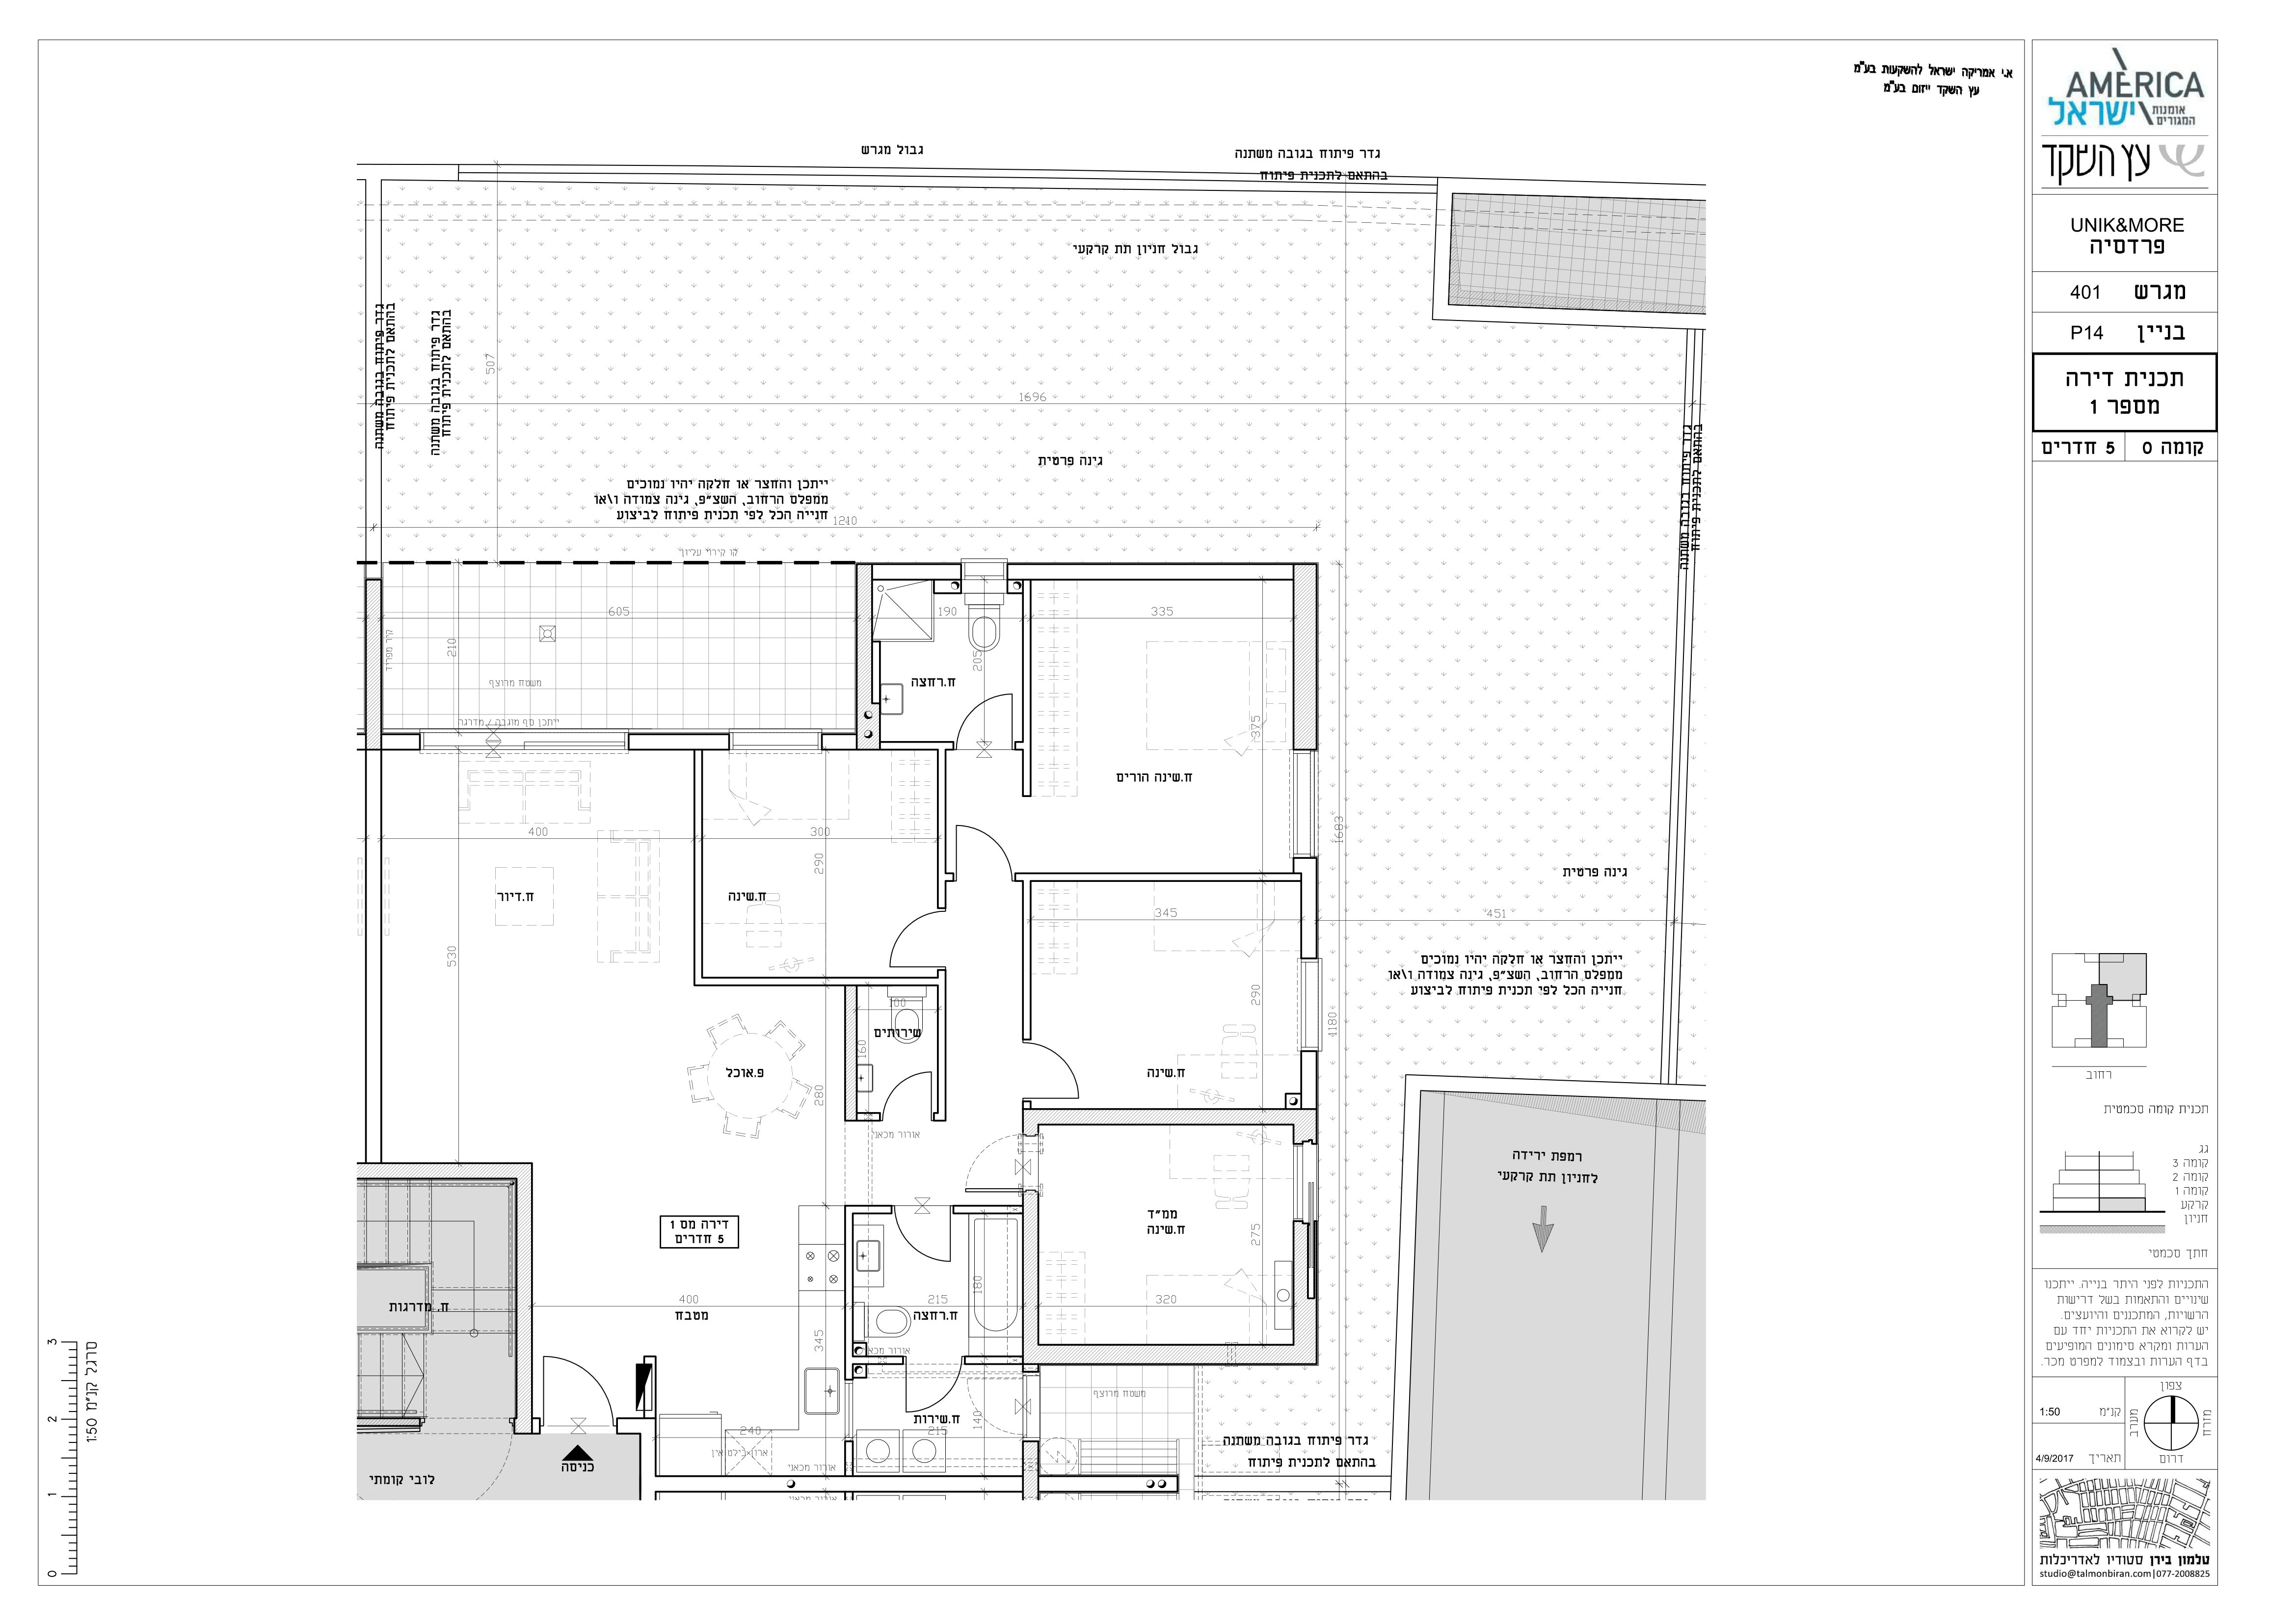door: (540, 1345, 621, 1413), (951, 817, 1021, 874), (951, 687, 1021, 743), (1035, 1037, 1090, 1106), (884, 905, 939, 974), (893, 1364, 963, 1415), (888, 1214, 958, 1264), (884, 1065, 939, 1113)
wall: (1023, 1345, 1317, 1364), (1023, 1109, 1315, 1125), (517, 1181, 531, 1434), (359, 1164, 533, 1179)
window: (418, 729, 629, 754), (1294, 750, 1319, 858), (728, 729, 823, 756), (1297, 958, 1322, 1053), (962, 557, 1007, 582)
